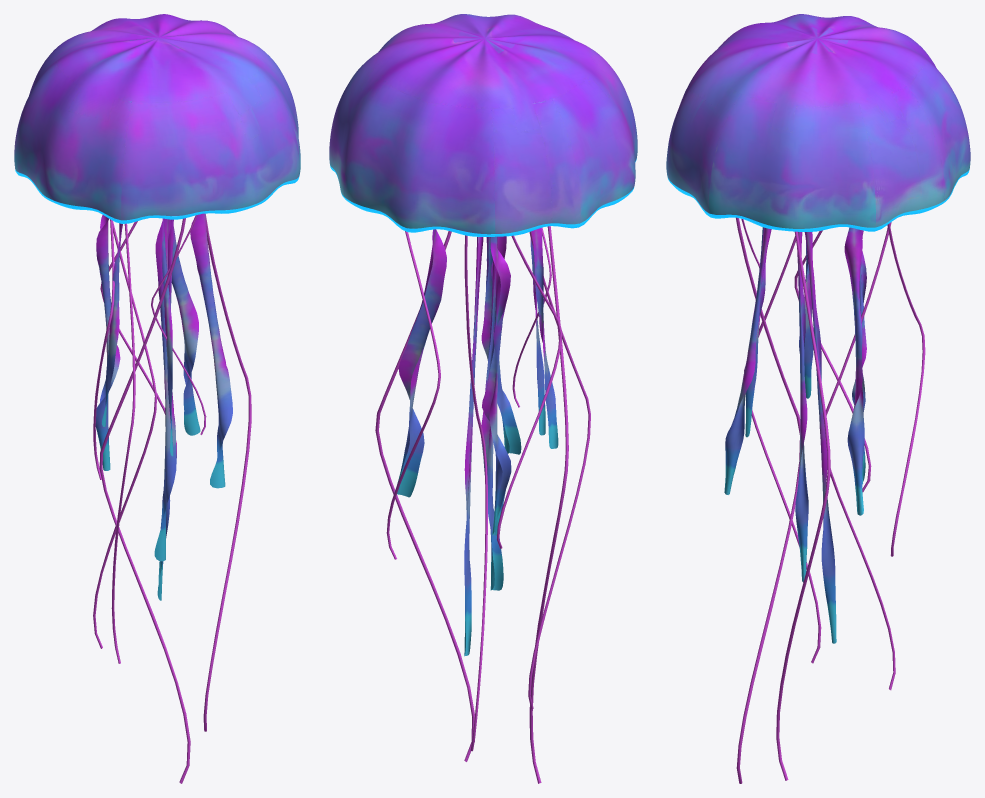
File: jellyfish.glb
3 views of the same model, side by side, from view 1: azimuth 30°, elevation 25°; view 2: azimuth 150°, elevation 25°; view 3: azimuth 270°, elevation 25° (orthographic). The views are drawn at different scales.
Visible parts, largest first — view 1: jellyfish; view 2: jellyfish; view 3: jellyfish.
Boxes of the visible parts, box(x1,y1,x2,y2) form: jellyfish: box(14, 14, 300, 783); jellyfish: box(329, 14, 637, 783); jellyfish: box(666, 14, 970, 783).
Bounding box in the file's own units: 0.5809 × 1.6 × 0.5855.
4 materials, 2 textured.
